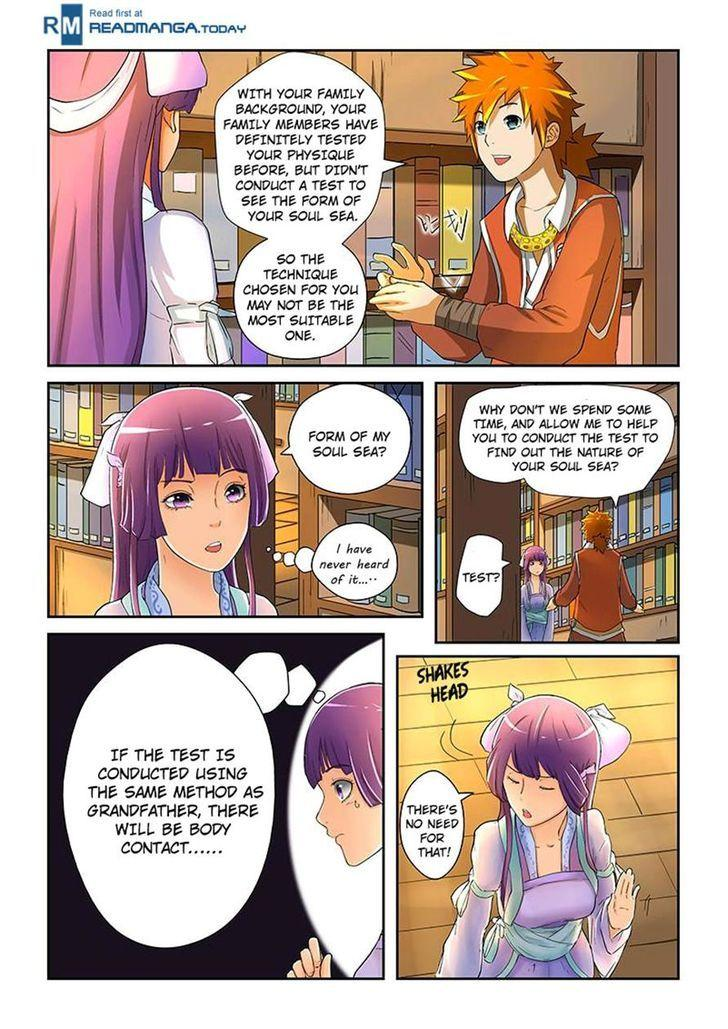Bubble: (62, 642, 277, 949), (213, 48, 388, 238), (458, 378, 677, 501), (232, 242, 369, 360), (284, 379, 413, 496), (398, 768, 468, 881), (310, 519, 400, 602), (454, 533, 506, 618)
